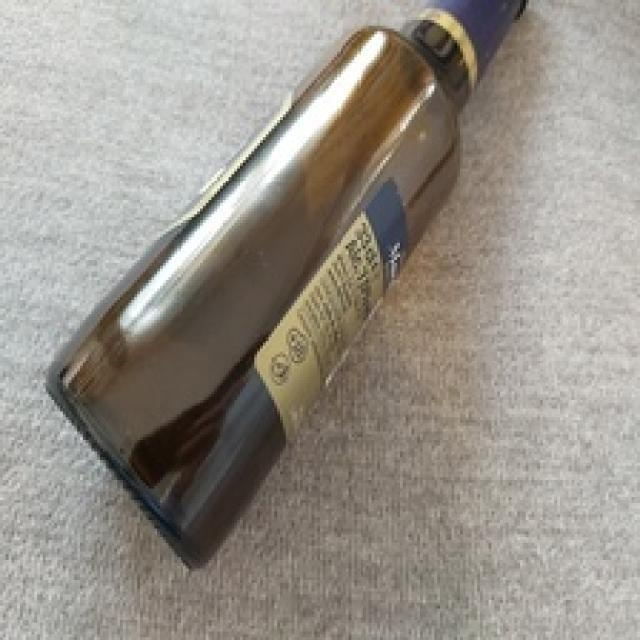Glass: (42, 0, 524, 571)
